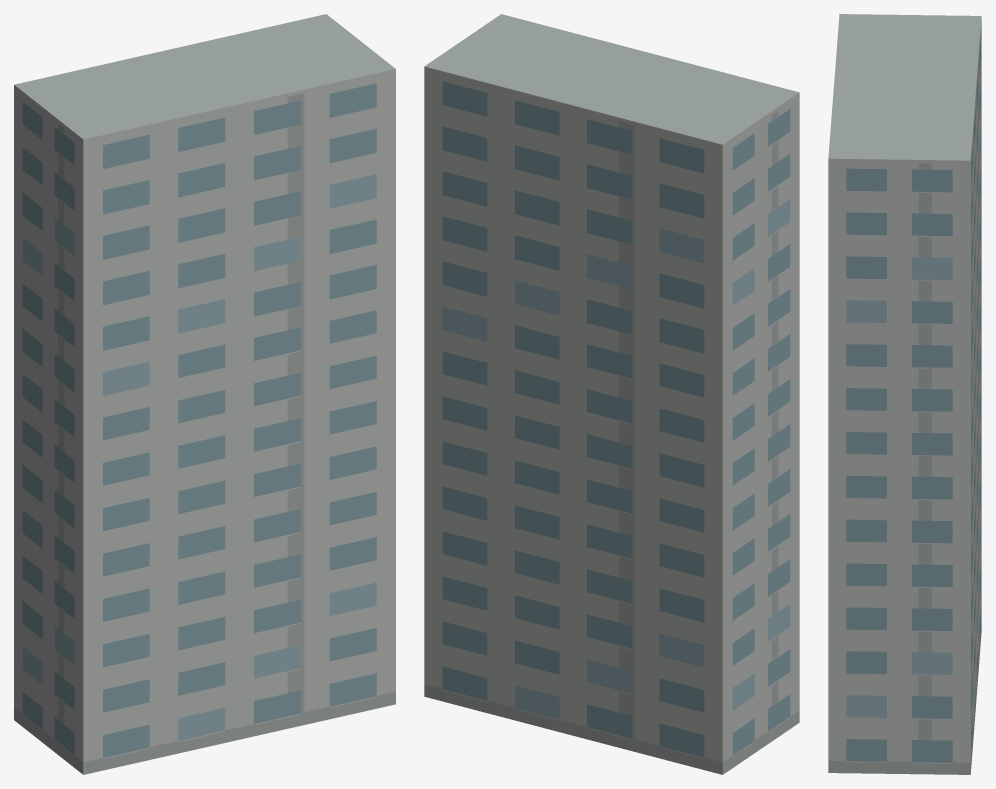
The model's file is residential-e20f34af-1ceb-4666-a593-70f175670fb6.glb.
The picture shows the model from 3 angles, left to right: view 1: azimuth 30°, elevation 25°; view 2: azimuth 150°, elevation 25°; view 3: azimuth 270°, elevation 25°; orthographic projection. The views are drawn at different scales.
Visible parts, largest first — view 1: residential-e20f34af-1ceb-4666-a593-70f175670fb6.tmp; view 2: residential-e20f34af-1ceb-4666-a593-70f175670fb6.tmp; view 3: residential-e20f34af-1ceb-4666-a593-70f175670fb6.tmp.
Boxes of the visible parts, x1=… form: residential-e20f34af-1ceb-4666-a593-70f175670fb6.tmp: x1=14, y1=14, x2=395, y2=774; residential-e20f34af-1ceb-4666-a593-70f175670fb6.tmp: x1=424, y1=14, x2=799, y2=774; residential-e20f34af-1ceb-4666-a593-70f175670fb6.tmp: x1=828, y1=14, x2=981, y2=774.
Bounding box in the file's own units: 22.53 × 44 × 9.96.
